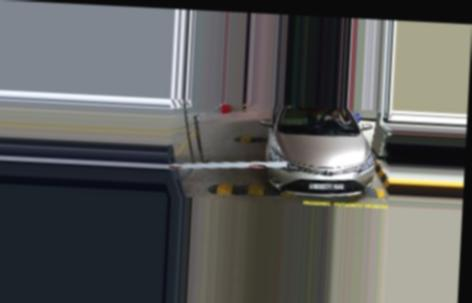License_Plate: (308, 180, 347, 191)
